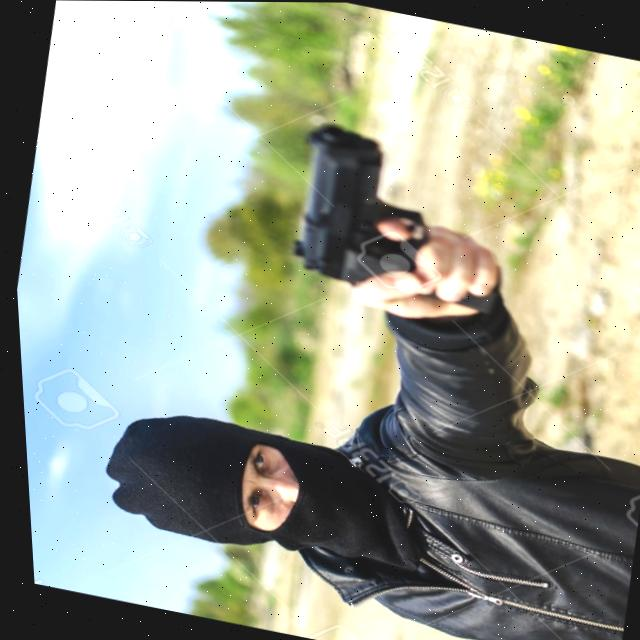pistol: (276, 118, 451, 301)
